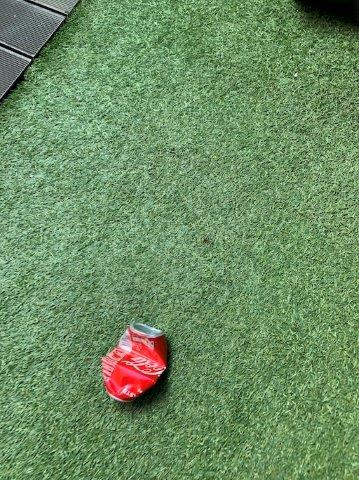kaleng: (103, 324, 166, 401)
